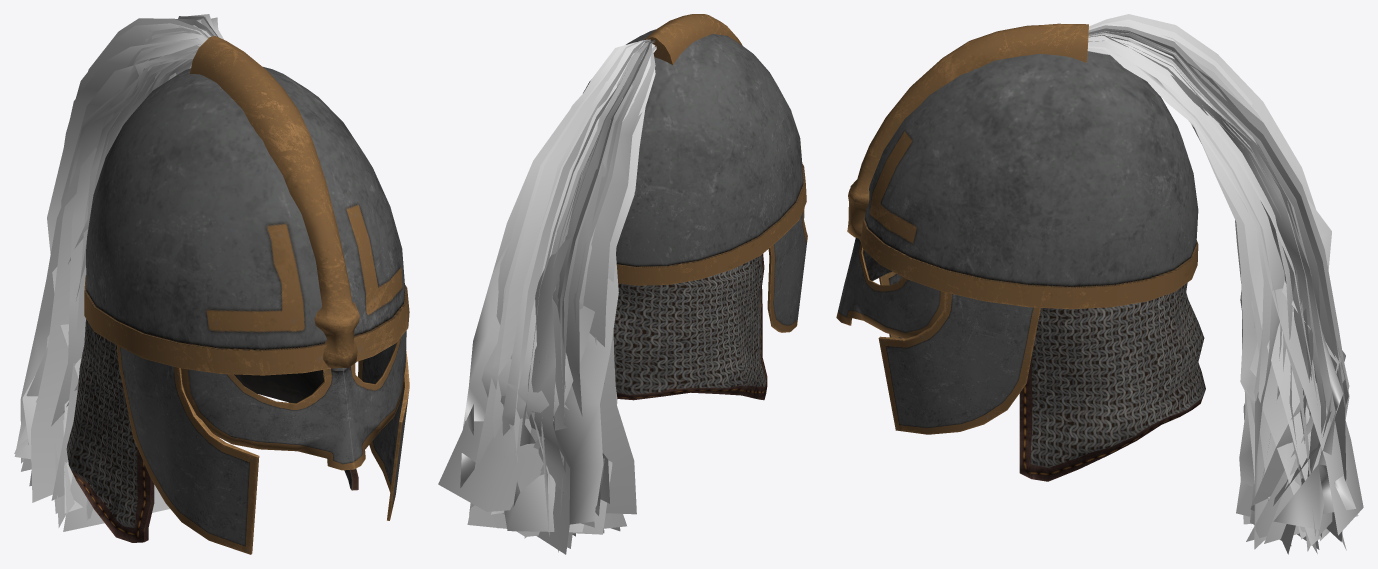
The model's file is cts_rohan_helmet_captain1.dae.
The picture shows the model from 3 angles, left to right: view 1: azimuth 30°, elevation 25°; view 2: azimuth 150°, elevation 25°; view 3: azimuth 270°, elevation 25°; orthographic projection. The views are drawn at different scales.
Visible parts, largest first — view 1: cts_rohan_helmet_captain1; view 2: cts_rohan_helmet_captain1; view 3: cts_rohan_helmet_captain1.
Boxes of the visible parts, x1,y1,x2,y2 form: cts_rohan_helmet_captain1: [14, 14, 409, 554]; cts_rohan_helmet_captain1: [438, 14, 807, 554]; cts_rohan_helmet_captain1: [836, 14, 1363, 554].
Size of the model in its own units: 0.1976 by 0.3761 by 0.3949.
1 material, 1 textured.
